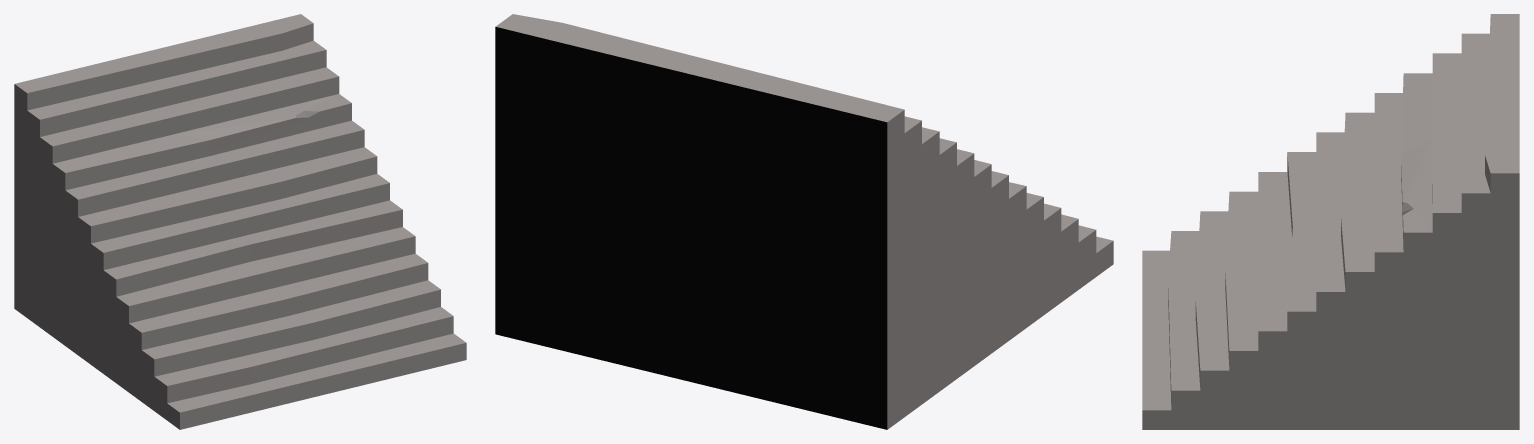
File: dungeon-stairs-stone.glb
3 renders of one model, left to right at view 1: azimuth 30°, elevation 25°; view 2: azimuth 150°, elevation 25°; view 3: azimuth 270°, elevation 25°, orthographic. The views are drawn at different scales.
Parts seen in each view (by area): view 1: dungeon-stairs-stone; view 2: dungeon-stairs-stone; view 3: dungeon-stairs-stone.
Boxes of the visible parts, x1,y1,x2,y2 form: dungeon-stairs-stone: (14, 14, 466, 429); dungeon-stairs-stone: (495, 14, 1113, 429); dungeon-stairs-stone: (1142, 14, 1519, 429).
Size of the model in its own units: 4 by 3 by 4.
1 material, 1 textured.
